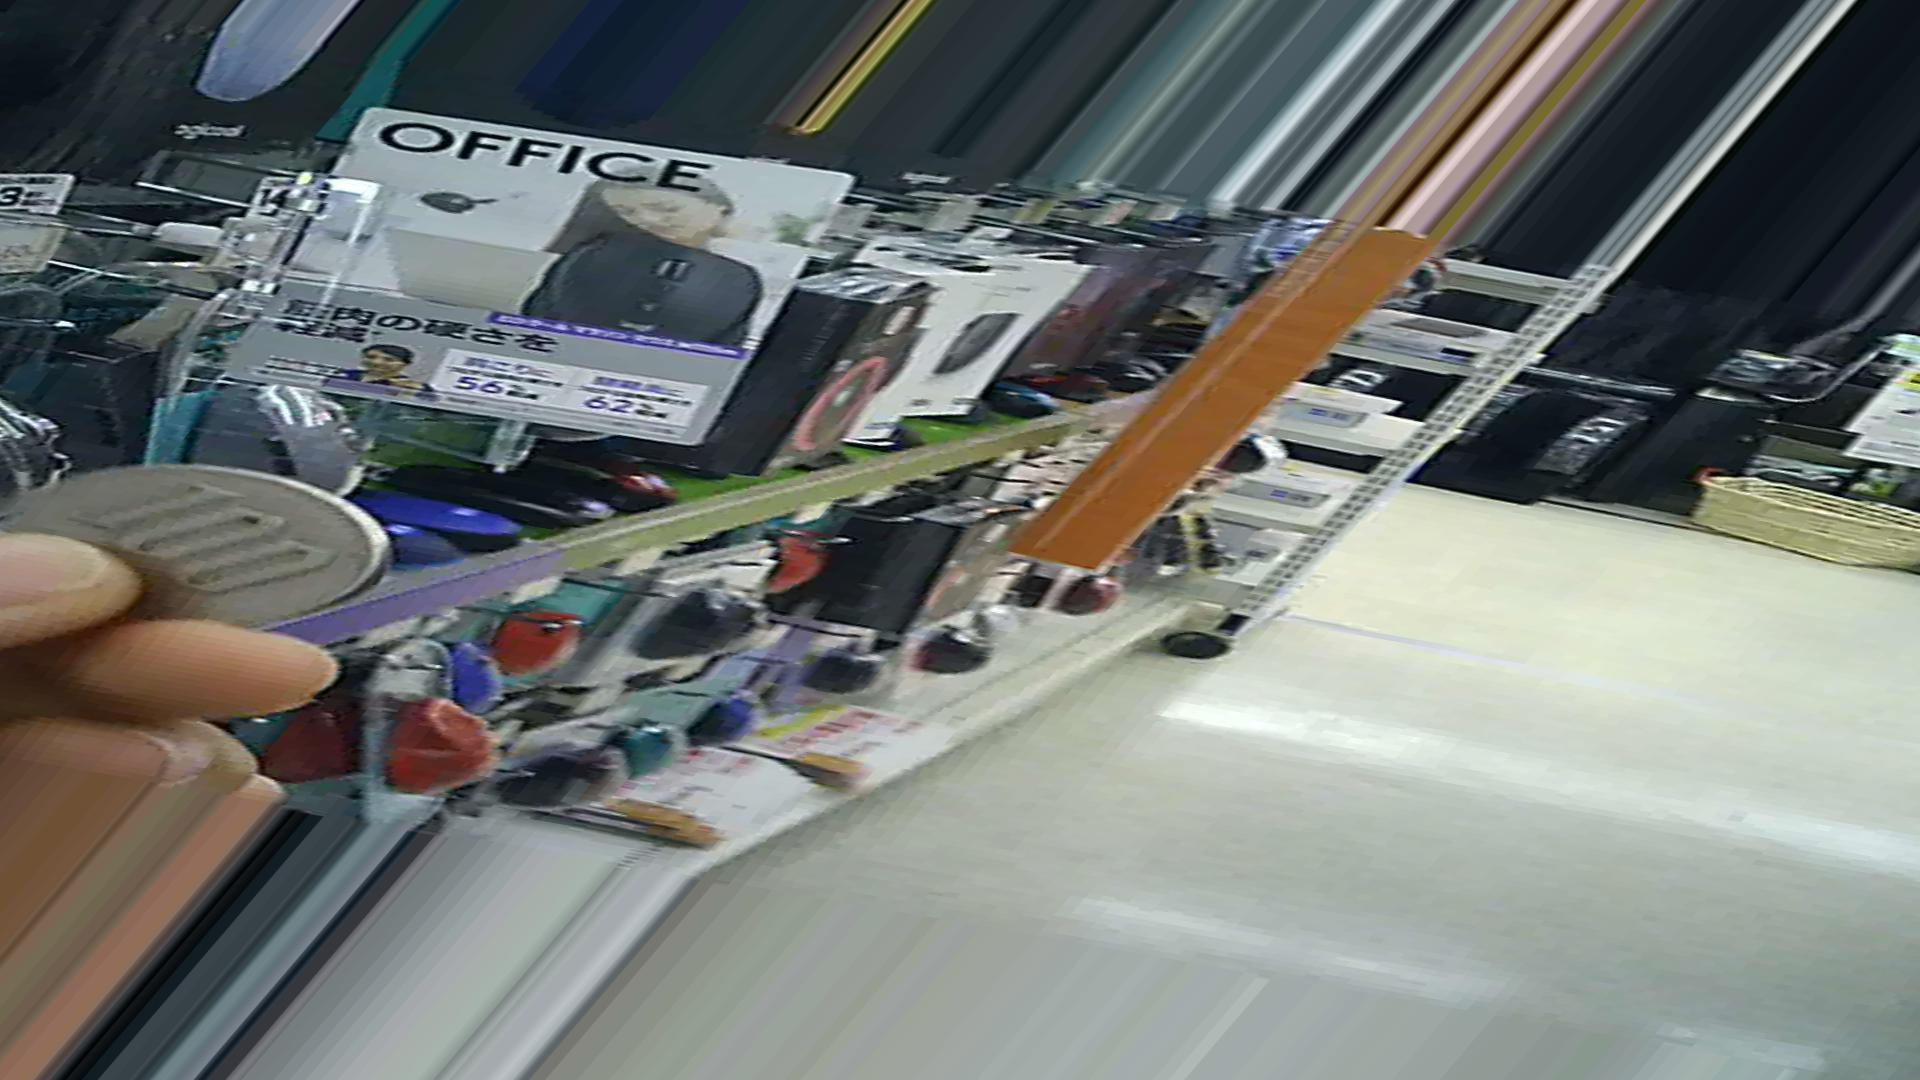100 Yen: (3, 460, 388, 670)
